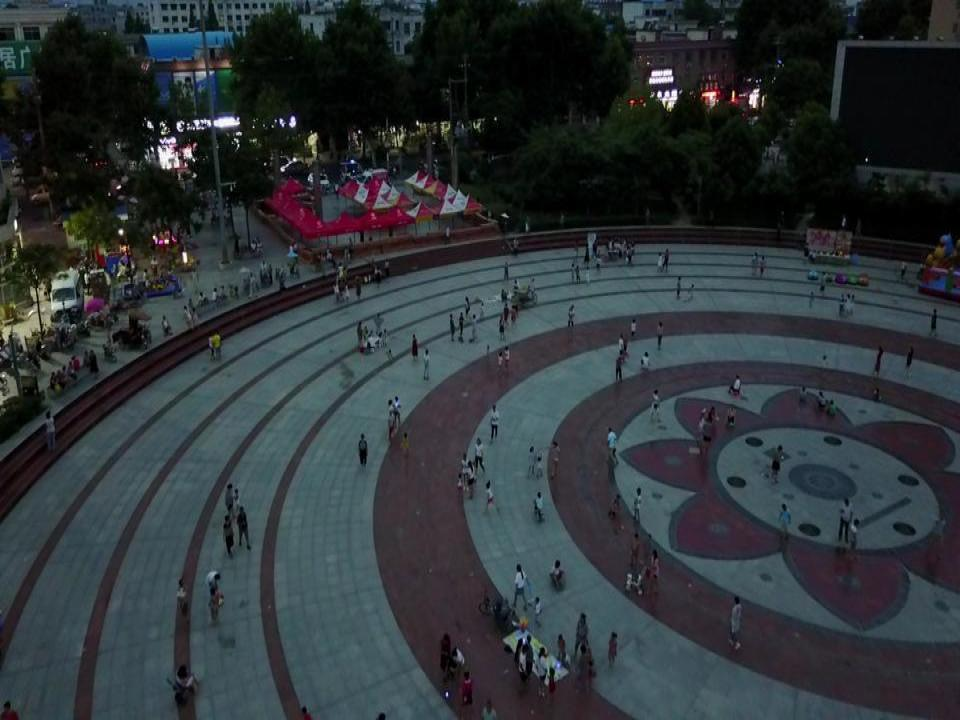van: (50, 269, 85, 320)
